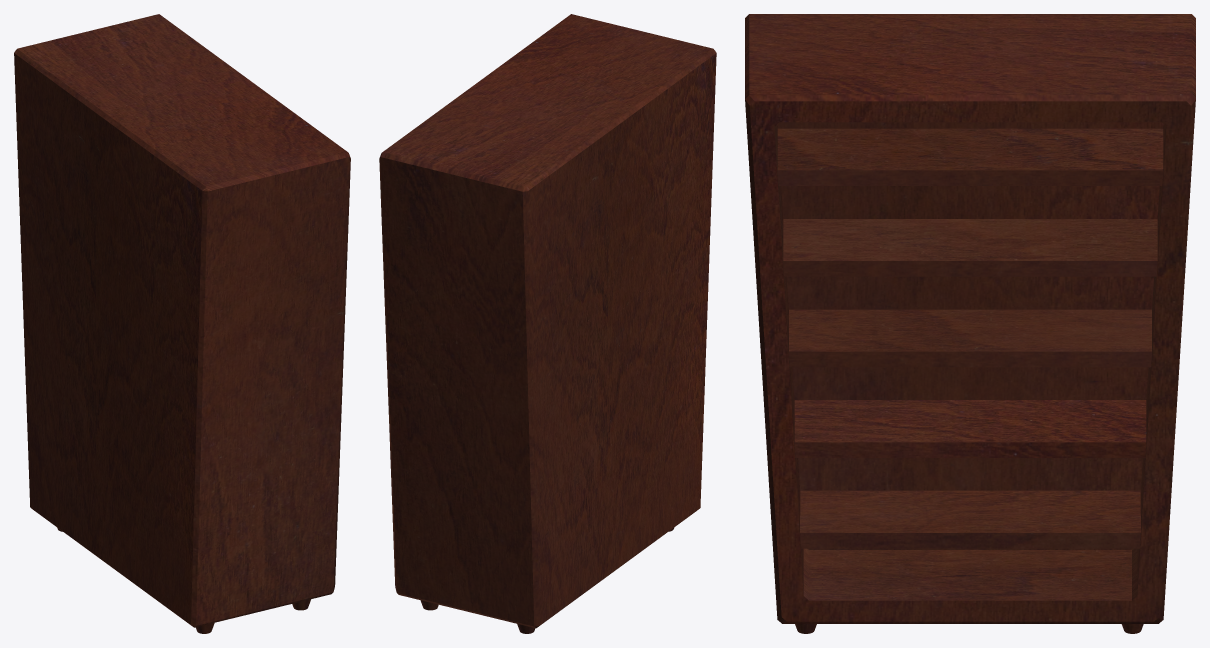
Rendered from bookshelf001.glb.
3 views of the same model, side by side, from view 1: azimuth 30°, elevation 25°; view 2: azimuth 150°, elevation 25°; view 3: azimuth 270°, elevation 25° (orthographic). The views are drawn at different scales.
Parts seen in each view (by area): view 1: Cube; view 2: Cube; view 3: Cube.
Part boxes in pixels (<box>): Cube: <box>14,14,350,633</box>; Cube: <box>379,14,716,633</box>; Cube: <box>745,14,1195,633</box>.
Bounding box in the file's own units: 2.06 × 6.21 × 4.63.
Materials: 1 (1 with a texture image).
